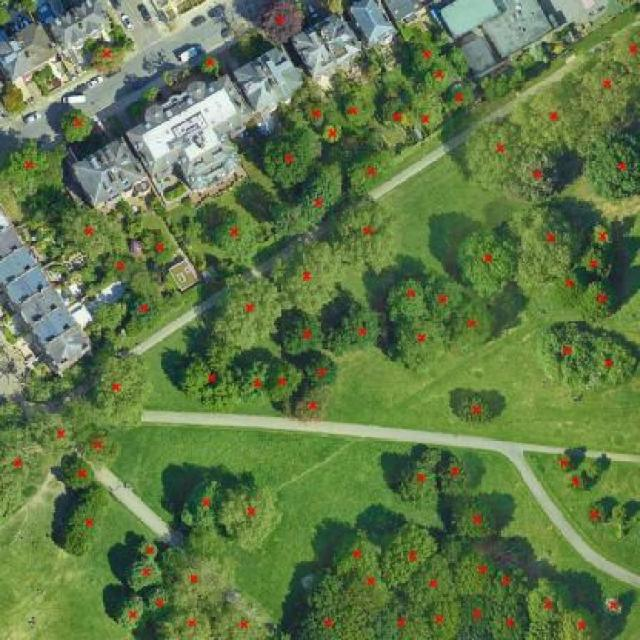tree: (506, 187, 588, 296), (87, 328, 158, 444), (206, 266, 286, 359), (572, 51, 639, 155), (326, 194, 411, 275), (510, 72, 588, 160), (265, 231, 344, 317), (270, 153, 348, 232), (46, 478, 116, 562), (253, 115, 324, 196), (454, 222, 526, 301), (286, 567, 363, 640), (382, 513, 446, 596), (0, 423, 52, 525), (456, 111, 521, 191), (218, 480, 285, 557), (0, 131, 69, 204), (54, 198, 131, 262), (382, 305, 444, 383), (167, 545, 245, 607), (574, 323, 640, 395), (581, 127, 640, 204), (501, 138, 565, 208), (200, 200, 266, 265), (443, 296, 515, 352), (538, 305, 582, 393), (179, 348, 238, 412), (320, 298, 388, 352), (367, 592, 441, 640), (388, 442, 440, 508), (176, 464, 222, 538), (447, 383, 510, 434), (325, 520, 381, 577), (351, 560, 397, 628), (442, 492, 507, 540), (347, 139, 399, 198), (211, 595, 278, 640), (422, 575, 468, 640), (80, 30, 134, 85), (526, 568, 583, 620), (113, 283, 165, 339), (338, 76, 384, 139), (446, 537, 492, 598), (228, 347, 272, 408), (428, 268, 474, 326), (136, 224, 187, 276), (434, 440, 474, 506), (385, 258, 423, 327), (55, 99, 103, 153), (281, 385, 336, 432), (28, 406, 78, 457), (254, 0, 306, 48), (490, 583, 533, 640), (570, 234, 622, 281), (78, 425, 130, 472), (282, 309, 328, 362), (585, 268, 623, 328), (159, 601, 215, 640), (603, 21, 640, 79), (407, 84, 445, 138), (455, 581, 489, 640), (90, 248, 148, 282), (554, 603, 606, 640), (407, 33, 447, 81), (268, 348, 304, 401), (122, 555, 166, 596), (423, 52, 463, 97), (293, 90, 336, 128), (493, 553, 533, 593), (300, 350, 342, 388), (444, 73, 481, 116), (552, 264, 588, 308), (58, 454, 102, 489), (85, 302, 127, 338), (380, 94, 412, 141), (108, 592, 143, 634), (141, 578, 174, 622), (584, 210, 621, 248), (600, 583, 629, 625), (0, 78, 29, 118), (125, 527, 161, 559), (193, 50, 224, 85), (324, 116, 354, 150), (582, 499, 609, 533), (606, 498, 636, 528), (552, 446, 578, 480), (565, 472, 589, 492)
